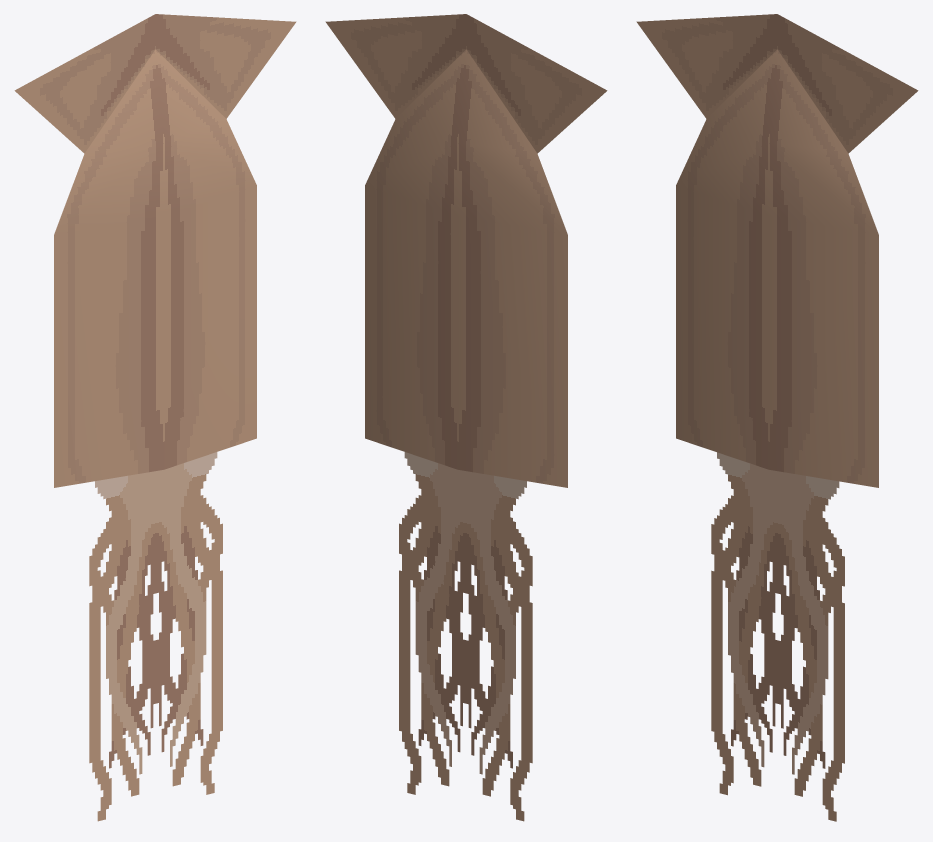
File: 0066_Dried_Squid.glb
3 renders of one model, left to right at view 1: azimuth 30°, elevation 25°; view 2: azimuth 150°, elevation 25°; view 3: azimuth 330°, elevation 25°, orthographic.
Parts seen in each view (by area): view 1: part_0; view 2: part_0; view 3: part_0.
Part boxes in pixels (bbox=[...]): part_0: bbox=[14, 14, 296, 821]; part_0: bbox=[325, 14, 607, 821]; part_0: bbox=[636, 14, 918, 821].
Bounding box in the file's own units: 0.1113 × 0.2993 × 0.012.
1 material, 1 textured.
